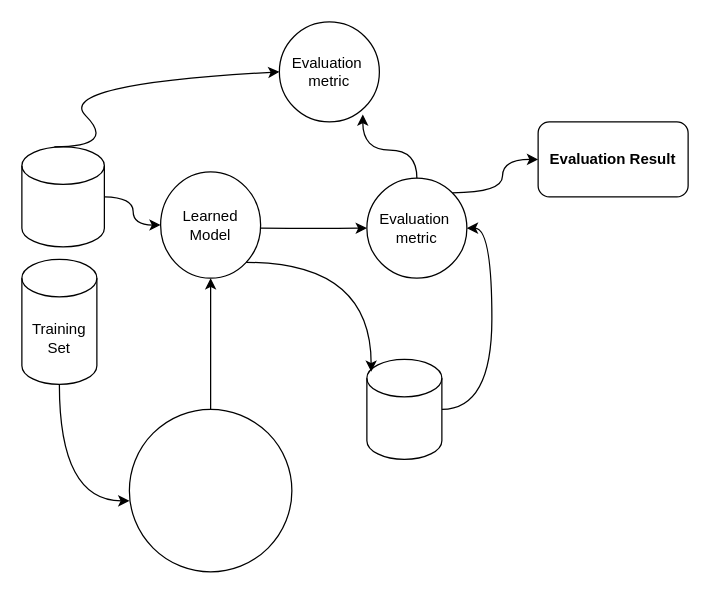
This 710x594 diagram has some shape labels left out. Each missing label, with the centre of its shape:
Recommendation System: (210,490)
Test Set: (62,196)
Test Set Predictions: (404,408)
